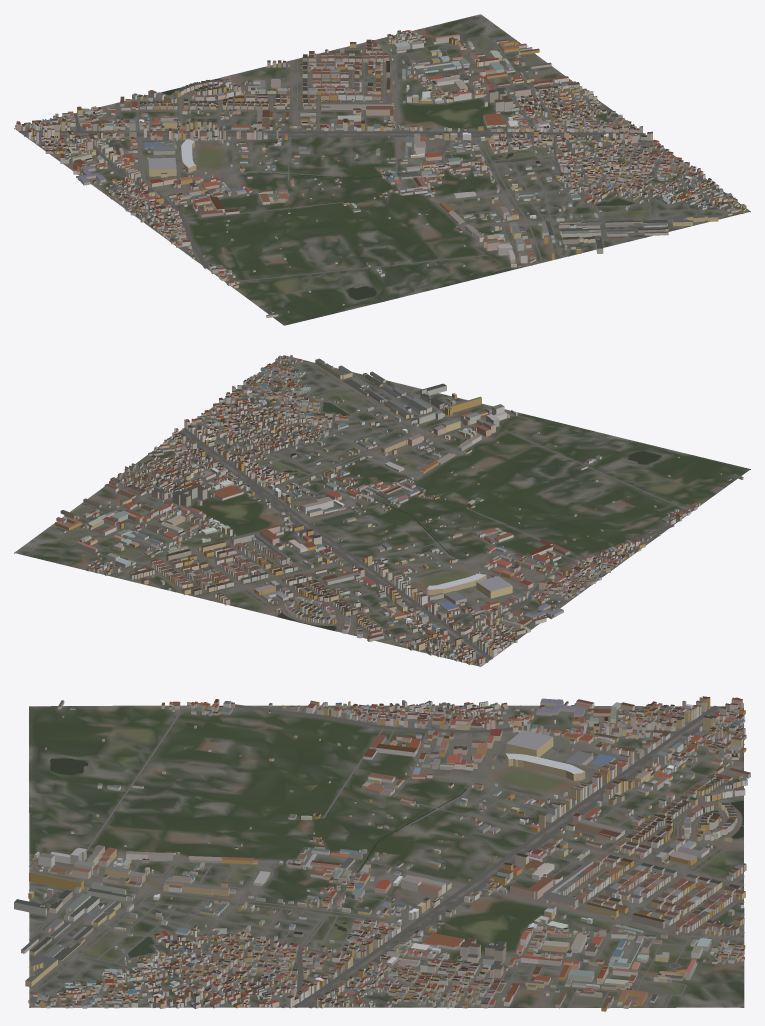
3 renders of one model, top to bottom at view 1: azimuth 30°, elevation 25°; view 2: azimuth 150°, elevation 25°; view 3: azimuth 270°, elevation 25°, orthographic. The views are drawn at different scales.
Parts seen in each view (by area): view 1: ground, buildings, roads, water; view 2: ground, buildings, roads, water; view 3: ground, buildings, roads, water.
Boxes of the visible parts, x1,y1,x2,y2 form: ground: (14,14,750,325); buildings: (15,30,746,317); roads: (19,19,749,282); water: (161,79,634,300); ground: (14,355,750,666); buildings: (55,355,743,666); roads: (21,356,692,663); water: (278,402,661,630); ground: (29,705,744,1007); buildings: (14,696,750,1011); roads: (29,704,744,1008); water: (50,758,743,957).
Size of the model in its own units: 1436 by 32.12 by 1445.
